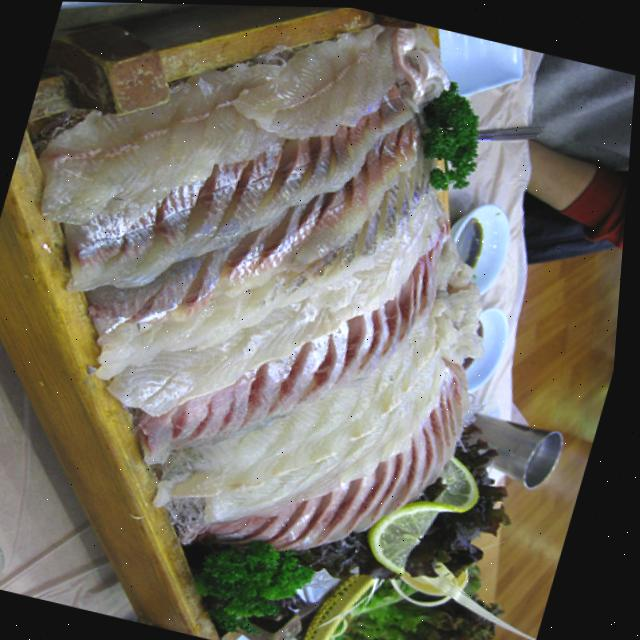刺身生食: (0, 0, 620, 635)
